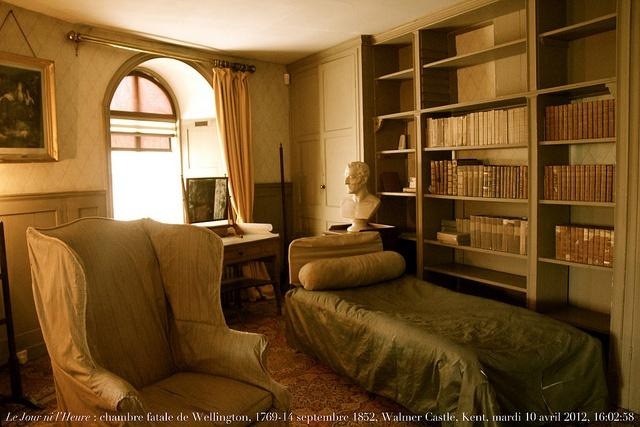Lemari: (288, 36, 363, 241)
Rak: (372, 0, 620, 342)
